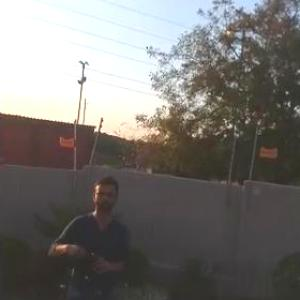follow: (40, 163, 139, 299)
